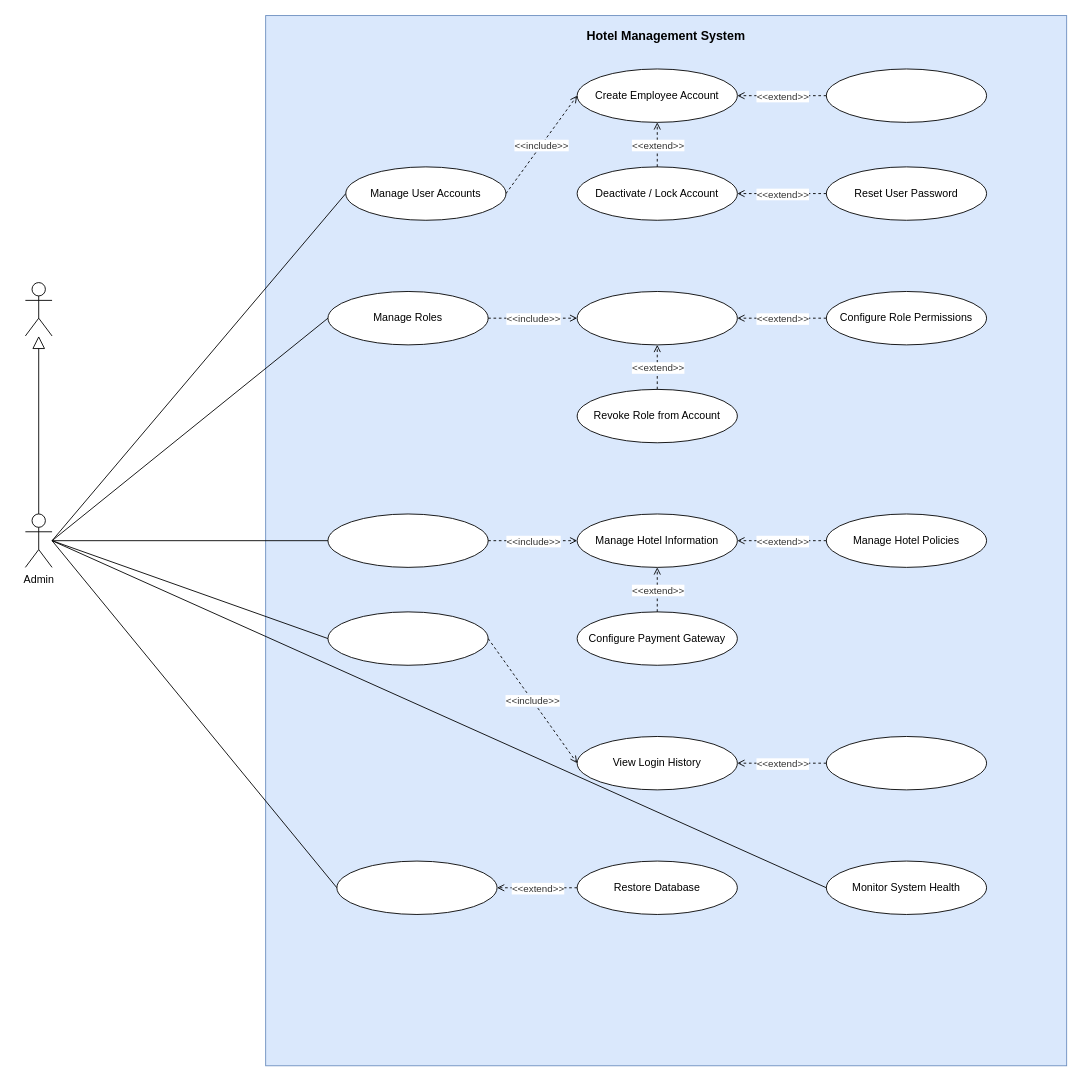
This 1082x1081 diagram has some shape labels left out. Here are the shapes that lost their labels. From the top down, the centre of each, then its label:
At pixel 906 95: "Update Account Information".
At pixel 38 309: "Employee".
At pixel 656 318: "Assign Role to Account".
At pixel 407 540: "Configure System Settings".
At pixel 407 638: "View System Audit Log".
At pixel 906 763: "Export Audit Log".
At pixel 416 887: "Backup Database".
